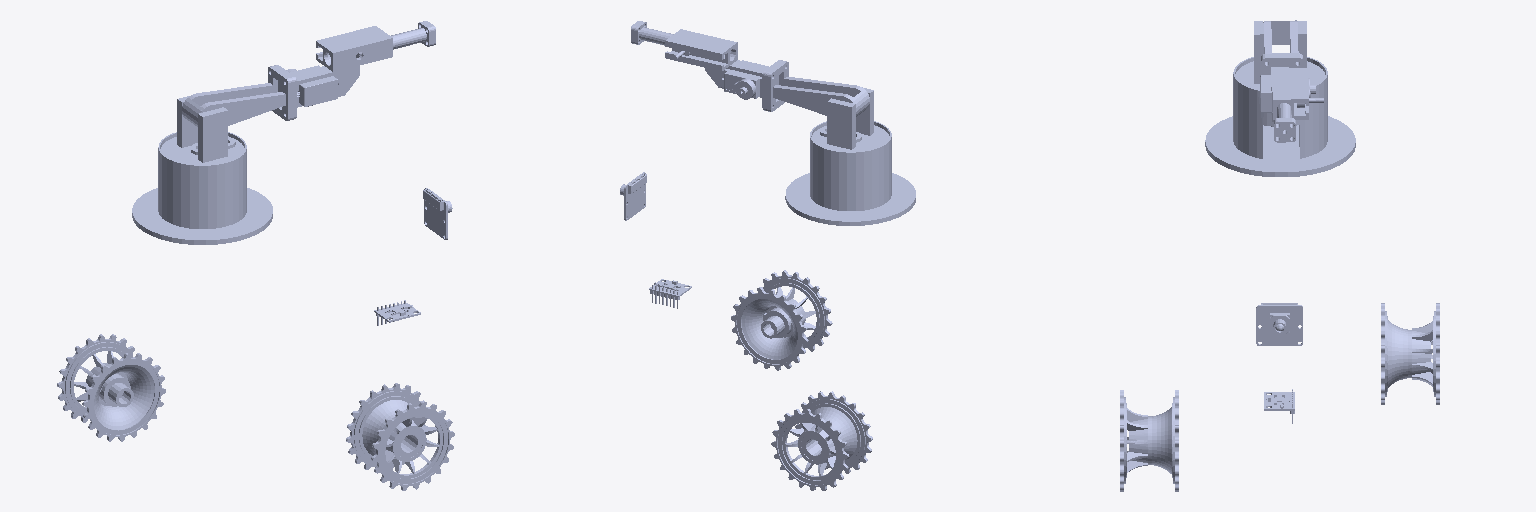
robot.urdf — myrobot:
<?xml version="1.0" encoding="utf-8"?>
<!-- This URDF was automatically created by SolidWorks to URDF Exporter! Originally created by [author] ([email redacted]) 
     Commit Version: 1.6.0-4-g7f85cfe  Build Version: 1.6.7995.38578
     For more information, please see http://wiki.ros.org/sw_urdf_exporter -->
<robot
  name="myrobot">
  <!-- BASE_LINK -->
  <link
    name="base_link">
    <inertial>
      <origin
        xyz="0.0021672 5.2269E-05 0.075206"
        rpy="0 0 0" />
      <mass
        value="0.94224" />
      <inertia
        ixx="0.0021709"
        ixy="4.448E-06"
        ixz="-9.7494E-05"
        iyy="0.0029755"
        iyz="-5.8642E-06"
        izz="0.0042219" />
    </inertial>
    <visual>
      <origin
        xyz="0 0 0"
        rpy="0 0 0" />
      <geometry>
        <mesh
          filename="package://myrobot/meshes/base_link.STL" />
      </geometry>
      <material
        name="">
        <color
          rgba="0.79216 0.81961 0.93333 1" />
      </material>
    </visual>
    <collision>
      <origin
        xyz="0 0 0"
        rpy="0 0 0" />
      <geometry>
        <mesh
          filename="package://myrobot/meshes/base_link.STL" />
      </geometry>
    </collision>

    <!-- CAMERA_LINK -->
  </link>
  <link
    name="camera_link">
    <inertial>
      <origin
        xyz="-0.0091066 -3.1937E-05 0.0028313"
        rpy="0 0 0" />
      <mass
        value="0.0015485" />
      <inertia
        ixx="9.8143E-08"
        ixy="1.5504E-11"
        ixz="2.7478E-09"
        iyy="6.1527E-08"
        iyz="3.7675E-10"
        izz="5.633E-08" />
    </inertial>
    <visual>
      <origin
        xyz="0 0 0"
        rpy="0 0 0" />
      <geometry>
        <mesh
          filename="package://myrobot/meshes/camera_link.STL" />
      </geometry>
      <material
        name="">
        <color
          rgba="0.79216 0.81961 0.93333 1" />
      </material>
    </visual>
    <collision>
      <origin
        xyz="0 0 0"
        rpy="0 0 0" />
      <geometry>
        <mesh
          filename="package://myrobot/meshes/camera_link.STL" />
      </geometry>
    </collision>
  </link>
  <joint
    name="camera_joint"
    type="fixed">
    <origin
      xyz="0.129 -7.197E-05 0.12332"
      rpy="0 0 0" />
    <parent
      link="base_link" />
    <child
      link="camera_link" />
    <axis
      xyz="0 0 0" />
  </joint>

  <!-- HOAT DONG CAMERA TREN GAZEBO -->
  <gazebo reference="camera_link">
    <sensor type="camera" name="camera_sensor">
      <update_rate>30</update_rate>
      <camera>
        <horizontal_fov>1.39626</horizontal_fov>
        <image>
          <width>320</width>
          <height>240</height>
          <format>R8G8B8</format>
        </image>
      </camera>
      <plugin name="camera_controller" filename="libgazebo_ros_camera.so">
        <alwaysOn>true</alwaysOn>
        <updateRate>30</updateRate>
        <cameraName>myrobot_camera</cameraName>
        <imageTopicName>/camera/image_raw</imageTopicName>
        <cameraInfoTopicName>/camera/camera_info</cameraInfoTopicName>
        <frameName>camera_link</frameName>
      </plugin>
    </sensor>
    <origin xyz="0.129 -7.197E-05 0.12332"
      rpy="0 0 0"/> 
  </gazebo>
  
  <!-- IMU_LINK -->
  <link
    name="imu_link">
    <inertial>
      <origin
        xyz="0.010453 -0.048916 -0.0010078"
        rpy="0 0 0" />
      <mass
        value="0.00054834" />
      <inertia
        ixx="8.6844E-09"
        ixy="-3.334E-11"
        ixz="-4.4417E-11"
        iyy="1.9444E-08"
        iyz="8.0656E-11"
        izz="2.6482E-08" />
    </inertial>
    <visual>
      <origin
        xyz="0 0 0"
        rpy="0 0 0" />
      <geometry>
        <mesh
          filename="package://myrobot/meshes/imu_link.STL" />
      </geometry>
      <material
        name="">
        <color
          rgba="0.79216 0.81961 0.93333 1" />
      </material>
    </visual>
    <collision>
      <origin
        xyz="0 0 0"
        rpy="0 0 0" />
      <geometry>
        <mesh
          filename="package://myrobot/meshes/imu_link.STL" />
      </geometry>
    </collision>
  </link>
  <joint
    name="imu_joint"
    type="fixed">
    <origin
      xyz="0.083172 0.050916 0.067856"
      rpy="0 0 0" />
    <parent
      link="base_link" />
    <child
      link="imu_link" />
    <axis
      xyz="0 0 0" />
  </joint>
  <!-- HOAT DONG IMU TREN GAZEBO -->
  <gazebo reference="imu_link">
    <sensor type="imu" name="imu_sensor">
      <updateRateHZ>50</updateRateHZ>
      <plugin name="imu_plugin" filename="libgazebo_ros_imu_sensor.so">
        <alwaysOn>true</alwaysOn>
        <updateRateHZ>50</updateRateHZ>
        <gaussianNoise>0.01</gaussianNoise>
         <xyzOffset>0 0 0</xyzOffset>
         <rpyOffset>0 0 0</rpyOffset>
        <topicName>/imu/data</topicName>
        <frameName>imu_link</frameName>
      </plugin>
    </sensor>
  </gazebo>
  
  <!-- LIDAR_LINK -->
  <link
    name="lidar_link">
    <inertial>
      <origin
        xyz="0.011787 -0.00029728 -0.035501"
        rpy="0 0 0" />
      <mass
        value="0.094104" />
      <inertia
        ixx="2.791E-05"
        ixy="-1.2576E-07"
        ixz="-3.3545E-07"
        iyy="4.4352E-05"
        iyz="2.3376E-08"
        izz="6.9475E-05" />
    </inertial>
    <visual>
      <origin
        xyz="0 0 0"
        rpy="0 0 0" />
      <geometry>
        <mesh
          filename="package://myrobot/meshes/lidar_link.STL" />
      </geometry>
      <material
        name="">
        <color
          rgba="0.79216 0.81961 0.93333 1" />
      </material>
    </visual>
    <collision>
      <origin
        xyz="0 0 0"
        rpy="0 0 0" />
      <geometry>
        <mesh
          filename="package://myrobot/meshes/lidar_link.STL" />
      </geometry>
    </collision>
  </link>
  <joint
    name="lidar_joint"
    type="fixed">
    <origin
      xyz="0.049018 -0.00031196 0.17124"
      rpy="0 0 0" />
    <parent
      link="base_link" />
    <child
      link="lidar_link" />
    <axis
      xyz="0 0 0" />
  </joint>

  <!-- HOAT DONG LIDAR TREN GAZEBO-->
  <gazebo reference="lidar_link">
    <sensor type="ray" name="lidar_sensor">
      <update_rate>10</update_rate>
      <ray>
        <scan>
          <horizontal>
            <samples>360</samples>
            <resolution>1.0</resolution>
            <min_angle>-1.57</min_angle>
            <max_angle>1.57</max_angle>
          </horizontal>
        </scan>
        <range>
          <min>0.1</min>
          <max>10.0</max>
          <resolution>0.01</resolution>
        </range>
      </ray>
      <plugin name="lidar_plugin" filename="libgazebo_ros_laser.so">
        <alwaysOn>true</alwaysOn>
        <updateRate>10</updateRate>
        <topicName>/scan</topicName>
        <frameName>lidar_link</frameName>
      </plugin>
    </sensor>
  </gazebo>
  
  <!-- MOTOR -->
  <link
    name="motor_left_link">
    <inertial>
      <origin
        xyz="-1.002E-05 0.017054 4.0634E-06"
        rpy="0 0 0" />
      <mass
        value="0.01319" />
      <inertia
        ixx="2.7998E-06"
        ixy="-1.3699E-09"
        ixz="2.0596E-09"
        iyy="3.1329E-06"
        iyz="5.5346E-10"
        izz="2.8041E-06" />
    </inertial>
    <visual>
      <origin
        xyz="0 0 0"
        rpy="0 0 0" />
      <geometry>
        <mesh
          filename="package://myrobot/meshes/motor_left_link.STL" />
      </geometry>
      <material
        name="">
        <color
          rgba="0.79216 0.81961 0.93333 1" />
      </material>
    </visual>
    <collision>
      <origin
        xyz="0 0 0"
        rpy="0 0 0" />
      <geometry>
       <mesh
          filename="package://myrobot/meshes/motor_left_link.STL" />
      </geometry>
    </collision>
  </link>
  <joint
    name="motor_left_joint"
    type="continuous">
    <origin
      xyz="-0.0549 0.05298 0.026106"
      rpy="0 0 0" />
    <parent
      link="base_link" />
    <child
      link="motor_left_link" />
    <axis
      xyz="0 1 0" />
    <limit effort="100" velocity="10" lower="-2.0" upper="2.0"/>
</joint>
  <link
    name="motor_right_link">
    <inertial>
      <origin
        xyz="-0.00036227 -0.017082 -7.7231E-07"
        rpy="0 0 0" />
      <mass
        value="0.01319" />
      <inertia
        ixx="2.7992E-06"
        ixy="8.3384E-09"
        ixz="-4.1884E-10"
        iyy="3.1326E-06"
        iyz="1.1227E-10"
        izz="2.8049E-06" />
    </inertial>
    <visual>
      <origin
        xyz="0 0 0"
        rpy="0 0 0" />
      <geometry>
        <mesh
          filename="package://myrobot/meshes/motor_right_link.STL" />
      </geometry>
      <material
        name="">
        <color
          rgba="0.79216 0.81961 0.93333 1" />
      </material>
    </visual>
    <collision>
      <origin
        xyz="0 0 0"
        rpy="0 0 0" />
      <geometry>
        <mesh
          filename="package://myrobot/meshes/motor_right_link.STL" />
        </geometry>
    </collision>
  </link>
  <joint
    name="motor_right_joint"
    type="continuous">
    <origin
      xyz="0.0549001025253852 -0.0529484297194092 0.0261064627897476"
      rpy="0 0 0.0205732401062777" />
    <parent
      link="base_link" />
    <child
      link="motor_right_link" />
    <axis
      xyz="0.0205717888382007 0.999788378360139 0" />
    <limit effort="100" velocity="10" lower="-2.0" upper="2.0"/>
</joint>

<!-- ARM -->
   <link name="arm_base_link">
    <inertial>
      <origin
        xyz="0.00075864 -5.7988E-06 0.0069673"
        rpy="0 0 0" />
      <mass
        value="0.027" />
      <inertia
        ixx="1.317E-05"
        ixy="-1.0851E-10"
        ixz="2.7024E-08"
        iyy="1.3156E-05"
        iyz="-2.0657E-10"
        izz="1.8425E-05" />
    </inertial>
    <visual>
      <origin
        xyz="0 0 0"
        rpy="0 0 0" />
      <geometry>
        <mesh
          filename="package://myrobot/meshes/arm_base_link.STL" />
      </geometry>
      <material
        name="">
        <color
          rgba="0.79216 0.81961 0.93333 1" />
      </material>
    </visual>
    <collision>
      <origin
        xyz="0 0 0"
        rpy="0 0 0" />
      <geometry>
        <mesh
          filename="package://myrobot/meshes/arm_base_link.STL" />
      </geometry>
    </collision>
  </link>
  <joint
    name="arm_base_joint"
    type="fixed">
    <origin
      xyz="-0.034782 0.00033271 0.16142"
      rpy="0 0 -3.121" />
    <parent
      link="base_link" />
    <child
      link="arm_base_link" />
    <axis
      xyz="0 0 0" />
  </joint>
  <link
    name="arm_joint1_link">
    <inertial>
      <origin
        xyz="0.042921 0.00034486 0.023448"
        rpy="0 0 0" />
      <mass
        value="0.037293" />
      <inertia
        ixx="4.9272E-06"
        ixy="-2.0557E-07"
        ixz="-1.0955E-06"
        iyy="1.135E-05"
        iyz="-1.2841E-07"
        izz="1.203E-05" />
    </inertial>
    <visual>
      <origin
        xyz="0 0 0"
        rpy="0 0 0" />
      <geometry>
        <mesh
          filename="package://myrobot/meshes/arm_joint1_link.STL" />
      </geometry>
      <material
        name="">
        <color
          rgba="0.79216 0.81961 0.93333 1" />
      </material>
    </visual>
    <collision>
      <origin
        xyz="0 0 0"
        rpy="0 0 0" />
      <geometry>
        <mesh
          filename="package://myrobot/meshes/arm_joint1_link.STL" />
      </geometry>
    </collision>
  </link>
  <joint
    name="arm_joint1_joint"
    type="revolute">
    <origin
      xyz="0.00020933874096328 0 0.0339940637763312"
      rpy="0 0 3.13784873119313" />
    <parent
      link="arm_base_link" />
    <child
      link="arm_joint1_link" />
    <axis
      xyz="0 0 1" />
    <limit lower="-1.57" upper="1.57" effort="5" velocity="1.5" />
  </joint>
  <link
    name="arm_joint2_link">
    <inertial>
      <origin
        xyz="0.044847 0.00089754 1.2383E-09"
        rpy="0 0 0" />
      <mass
        value="0.0031326" />
      <inertia
        ixx="4.0312E-08"
        ixy="1.3464E-09"
        ixz="-7.6073E-13"
        iyy="6.7739E-07"
        iyz="1.1969E-13"
        izz="6.841E-07" />
    </inertial>
    <visual>
      <origin
        xyz="0 0 0"
        rpy="0 0 0" />
      <geometry>
        <mesh
          filename="package://myrobot/meshes/arm_joint2_link.STL" />
      </geometry>
      <material
        name="">
        <color
          rgba="0.79216 0.81961 0.93333 1" />
      </material>
    </visual>
    <collision>
      <origin
        xyz="0 0 0"
        rpy="0 0 0" />
      <geometry>
        <mesh
          filename="package://myrobot/meshes/arm_joint2_link.STL" />
      </geometry>
    </collision>
  </link>
  <joint
    name="arm_joint2_joint"
    type="prismatic">
    <origin
      xyz="0.0833 -0.00019994 0.041773"
      rpy="0 0 0" />
    <parent
      link="arm_joint1_link" />
    <child
      link="arm_joint2_link" />
    <axis
      xyz="-1 0 0" />
    <limit lower="-0.1" upper="0.1" effort="5" velocity="1" />
  </joint>

<!-- DIEU KHIEN BANH XE -->
<!-- Transmission -->
<transmission name="motor_left_trans">
  <type>transmission_interface/SimpleTransmission</type>
  <joint name="motor_left_joint">
    <hardwareInterface>hardware_interface/VelocityJointInterface</hardwareInterface>
  </joint>
  <actuator name="motor_left_actuator">
    <mechanicalReduction>10.0</mechanicalReduction>
    <hardwareInterface>hardware_interface/VelocityJointInterface</hardwareInterface>
  </actuator>
</transmission>

<transmission name="motor_right_trans">
  <type>transmission_interface/SimpleTransmission</type>
  <joint name="motor_right_joint">
    <hardwareInterface>hardware_interface/VelocityJointInterface</hardwareInterface>
  </joint>
  <actuator name="motor_right_actuator">
    <mechanicalReduction>10.0</mechanicalReduction>
    <hardwareInterface>hardware_interface/VelocityJointInterface</hardwareInterface>
  </actuator>
</transmission>
<!-- Plugin -->
<gazebo>
  <plugin name="gazebo_ros_control" filename="libgazebo_ros_control.so"/>
</gazebo>

<!-- DIEU KHIEN ARM -->
<!-- Transmission -->
  <transmission name="arm_joint1_joint_trans">
    <type>transmission_interface/SimpleTransmission</type>
    <joint name="arm_joint1_joint">
      <hardwareInterface>hardware_interface/PositionJointInterface</hardwareInterface>
    </joint>
    <actuator name="arm_joint1_joint_actuator">
      <mechanicalReduction>10.0</mechanicalReduction>
      <hardwareInterface>hardware_interface/PositionJointInterface</hardwareInterface>
    </actuator>
  </transmission>
  <transmission name="arm_joint2_joint_trans">
    <type>transmission_interface/SimpleTransmission</type>
    <joint name="arm_joint2_joint">
      <hardwareInterface>hardware_interface/PositionJointInterface</hardwareInterface>
          </joint>
    <actuator name="arm_joint2_joint_acutuator">
      <mechanicalReduction>10.0</mechanicalReduction>
      <hardwareInterface>hardware_interface/PositionJointInterface</hardwareInterface>
    </actuator>
  </transmission>
  <!-- Plugin -->
<plugin name="arm_control" filename="libgazebo_ros_control.so">
        <robotNamespace>/</robotNamespace>
    </plugin>
</robot>

--- Render facts (derived) ---
The picture shows the robot from 3 angles, left to right: view 1: azimuth 30°, elevation 25°; view 2: azimuth 150°, elevation 25°; view 3: azimuth 270°, elevation 25°; orthographic projection.
Model myrobot with 9 links and 8 joints (1 revolute, 2 continuous, 1 prismatic, 4 fixed), rooted at base_link, posed all joints at 0.
Links seen in each view (by area): view 1: arm_joint1_link, arm_base_link, motor_left_link, motor_right_link, camera_link, arm_joint2_link, imu_link; view 2: arm_joint1_link, arm_base_link, motor_left_link, motor_right_link, camera_link, arm_joint2_link, imu_link; view 3: arm_base_link, arm_joint1_link, motor_left_link, motor_right_link, camera_link, arm_joint2_link, imu_link.
Link boxes in pixels (left/top/right/bottom): arm_joint1_link: left=161, top=26, right=392, bottom=164; arm_base_link: left=132, top=132, right=272, bottom=244; motor_left_link: left=57, top=334, right=165, bottom=441; motor_right_link: left=346, top=383, right=454, bottom=490; camera_link: left=423, top=188, right=452, bottom=239; arm_joint2_link: left=356, top=21, right=435, bottom=57; imu_link: left=374, top=300, right=420, bottom=325; arm_joint1_link: left=665, top=29, right=889, bottom=151; arm_base_link: left=785, top=121, right=915, bottom=225; motor_left_link: left=771, top=391, right=872, bottom=490; motor_right_link: left=731, top=270, right=832, bottom=370; camera_link: left=620, top=172, right=646, bottom=220; arm_joint2_link: left=631, top=21, right=690, bottom=59; imu_link: left=649, top=279, right=691, bottom=308; arm_base_link: left=1205, top=53, right=1355, bottom=176; arm_joint1_link: left=1236, top=20, right=1325, bottom=121; motor_left_link: left=1381, top=303, right=1439, bottom=404; motor_right_link: left=1120, top=390, right=1178, bottom=491; camera_link: left=1256, top=303, right=1302, bottom=345; arm_joint2_link: left=1274, top=98, right=1323, bottom=142; imu_link: left=1264, top=389, right=1294, bottom=423.
Bounding box of the posed robot: 0.2102 × 0.1713 × 0.2443 m (x, y, z).
Meshes: 9 distinct files referenced, 7 mesh visuals loaded (7 binary STL); not drawn: 2 (reference not matched to a file when rendering).
